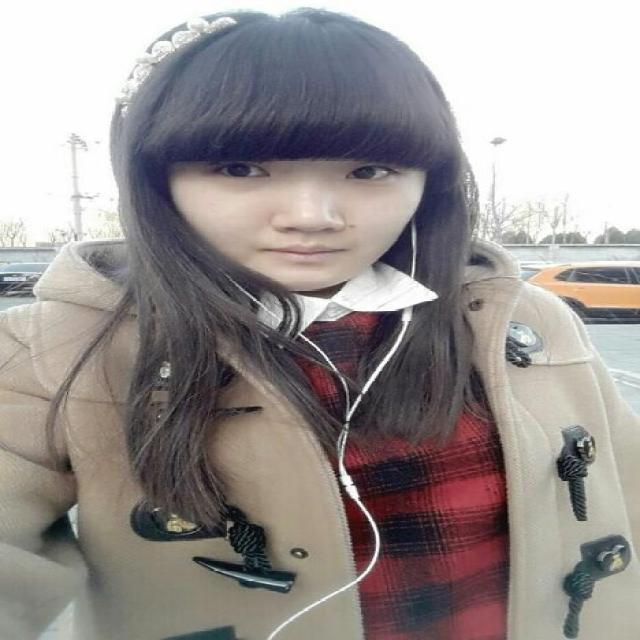long-sleeve-outwear: (9, 247, 640, 634)
